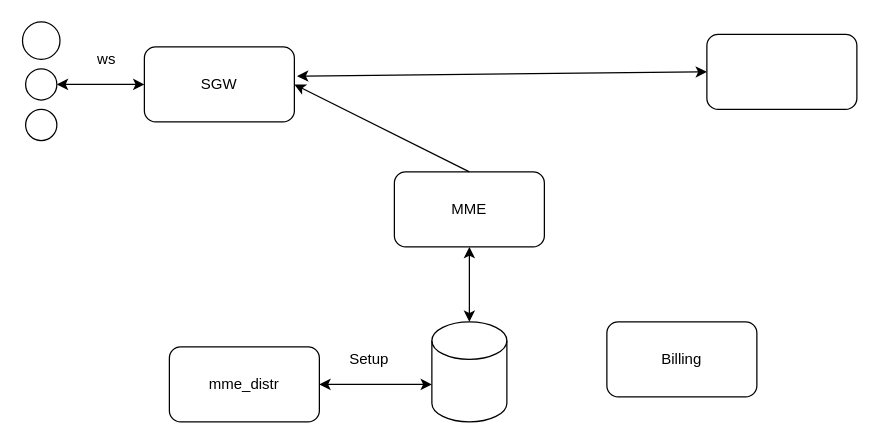
Image size: 879x444. Some labels were removed from this diagram. The box of each missing label's shape, as (x1, y1, x2, y2) in pixels:
Mnesia: (431, 321, 507, 422)
PGW: (706, 33, 857, 109)
